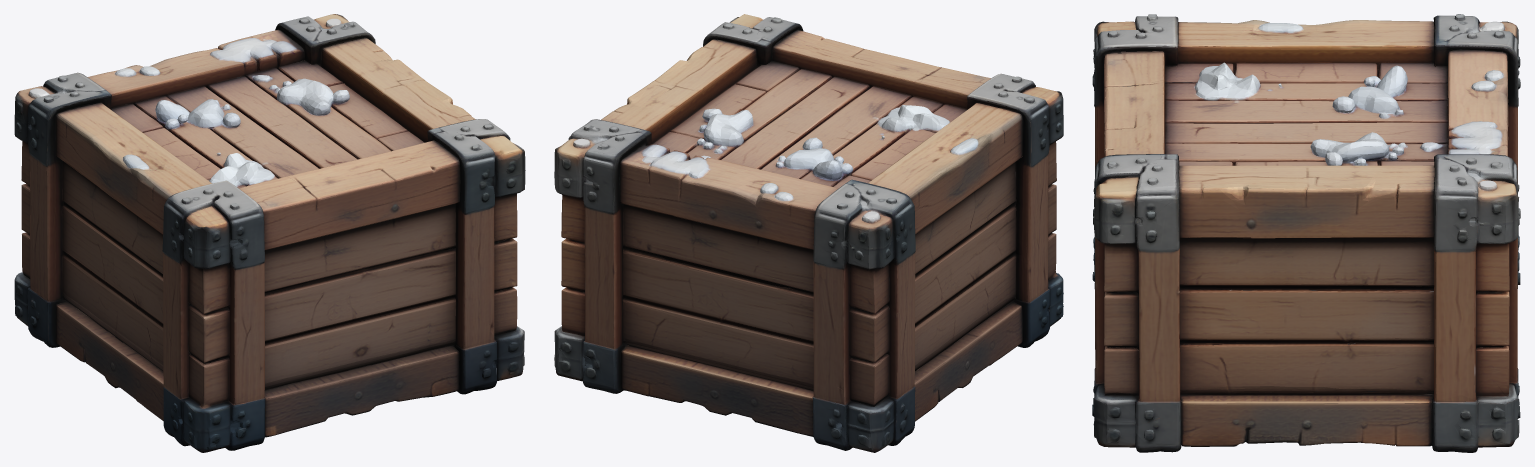
Rendered from caja.glb.
3 views of the same model, side by side, from view 1: azimuth 30°, elevation 25°; view 2: azimuth 150°, elevation 25°; view 3: azimuth 270°, elevation 25° (orthographic). The views are drawn at different scales.
Visible parts, largest first — view 1: world; view 2: world; view 3: world.
Part boxes in pixels (<box>): world: <box>14,14,525,452</box>; world: <box>554,14,1063,452</box>; world: <box>1092,14,1520,452</box>.
Bounding box in the file's own units: 0.9801 × 0.6942 × 0.9786.
1 material, 1 textured.
